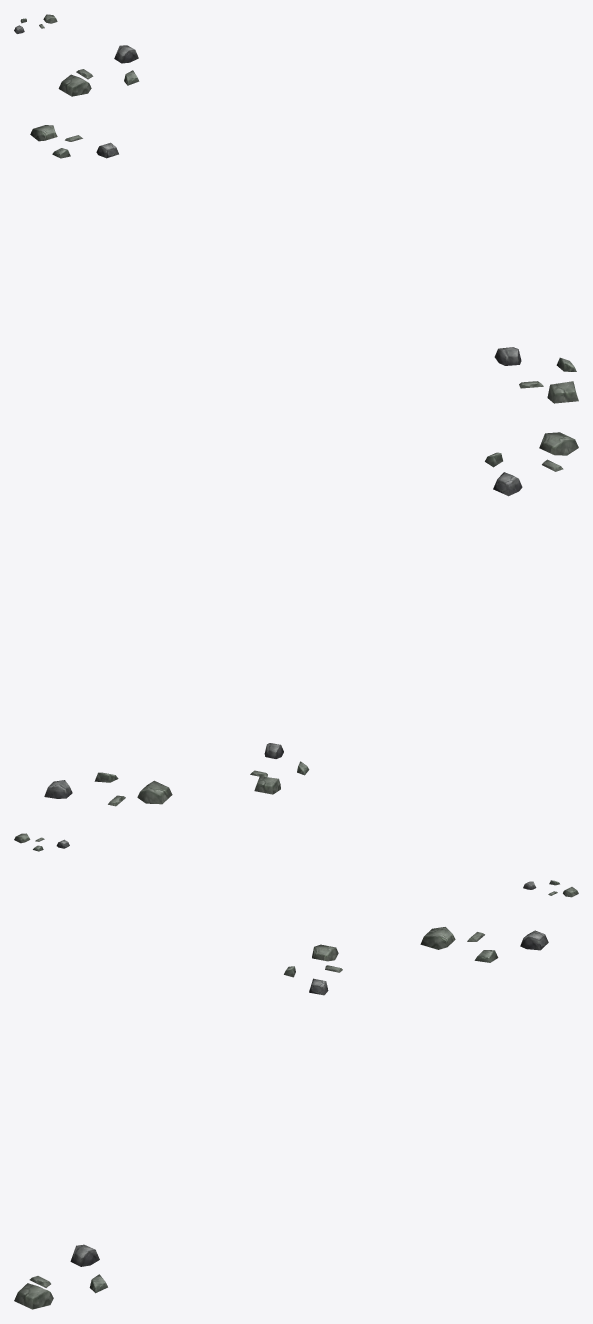
File: Area_10_11.fbx
3 renders of one model, top to bottom at view 1: azimuth 30°, elevation 25°; view 2: azimuth 150°, elevation 25°; view 3: azimuth 330°, elevation 25°, orthographic. The views are drawn at different scales.
Visible parts, largest first — view 1: Area_10_11; view 2: Area_10_11; view 3: Area_10_11.
Part boxes in pixels (x1=…): Area_10_11: x1=14, y1=14, x2=578, y2=403; Area_10_11: x1=14, y1=432, x2=578, y2=851; Area_10_11: x1=14, y1=880, x2=578, y2=1309.
Size of the model in its own units: 669 by 59.05 by 3437.
